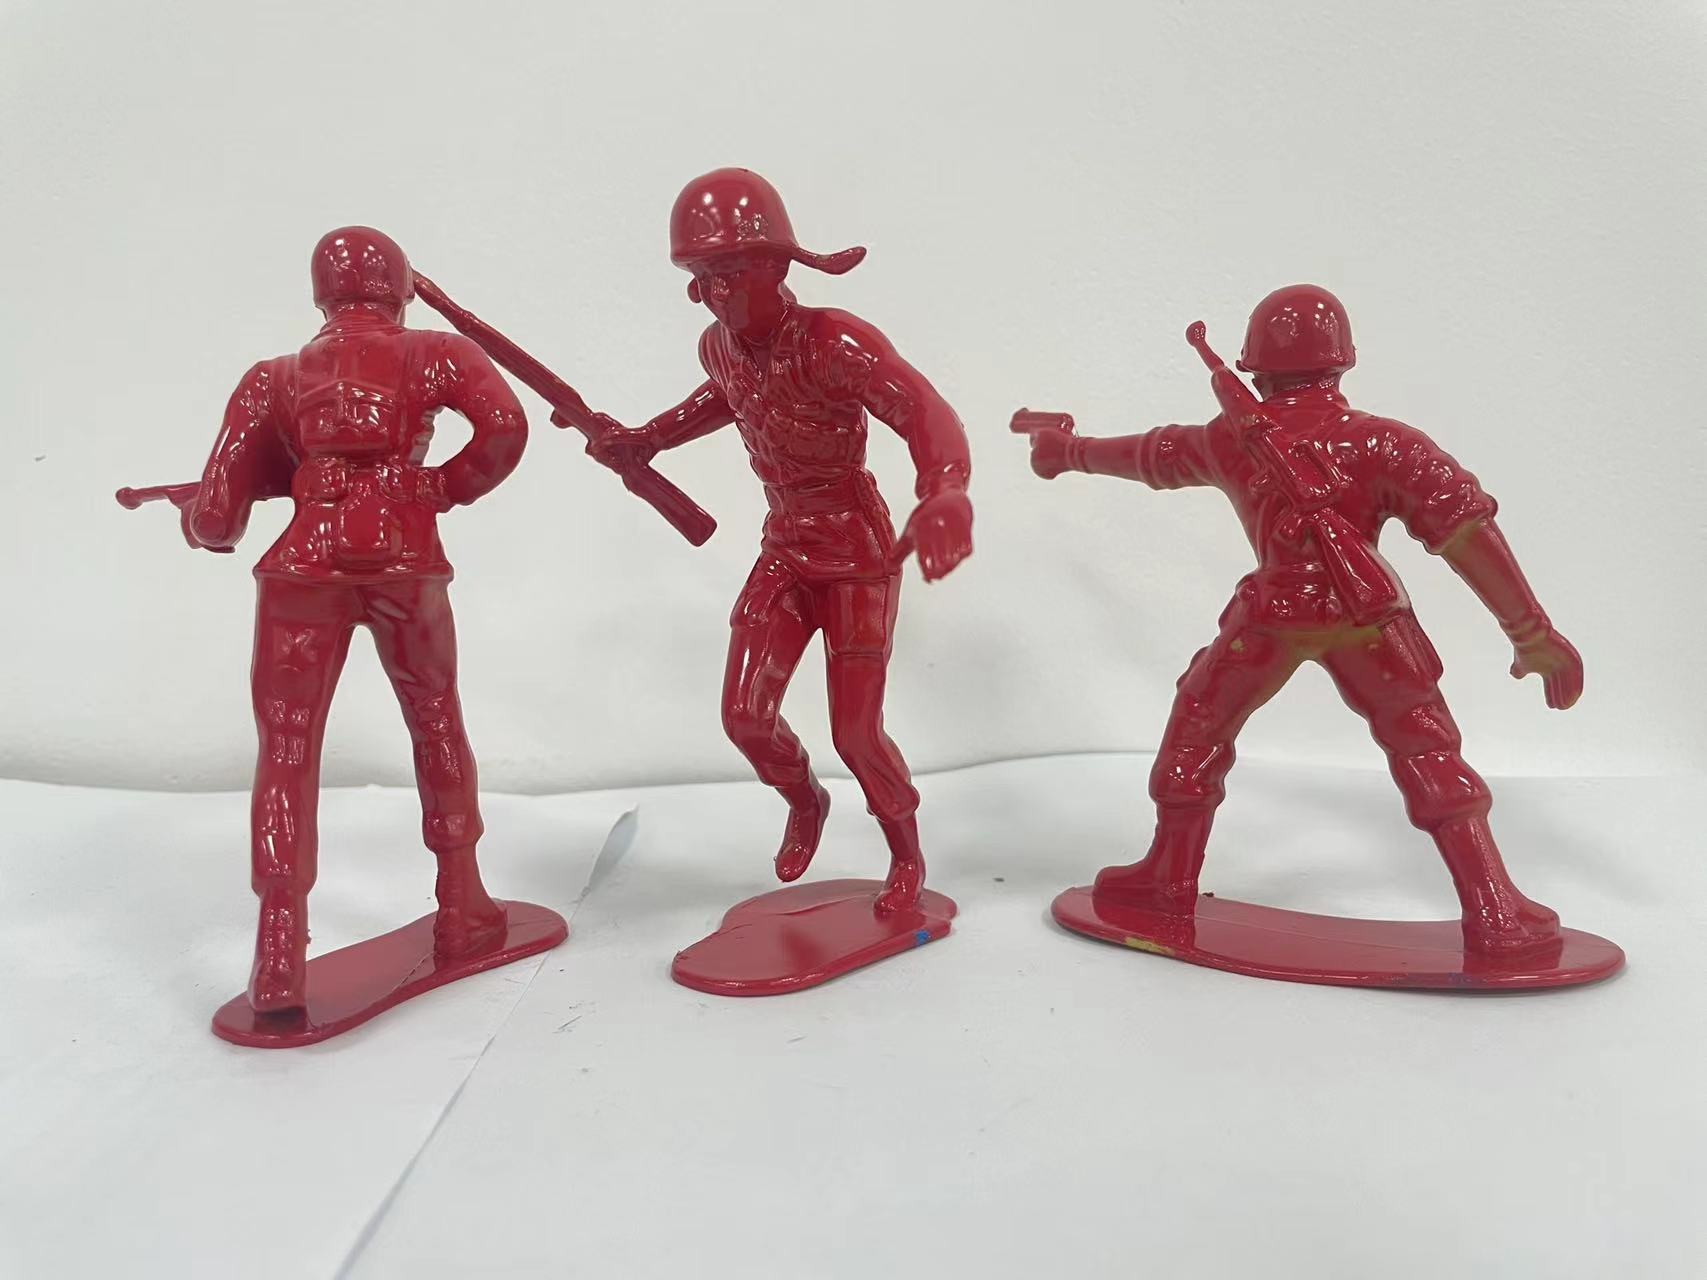red: (1011, 247, 1617, 977), (515, 164, 1001, 1033), (97, 194, 547, 1072)
